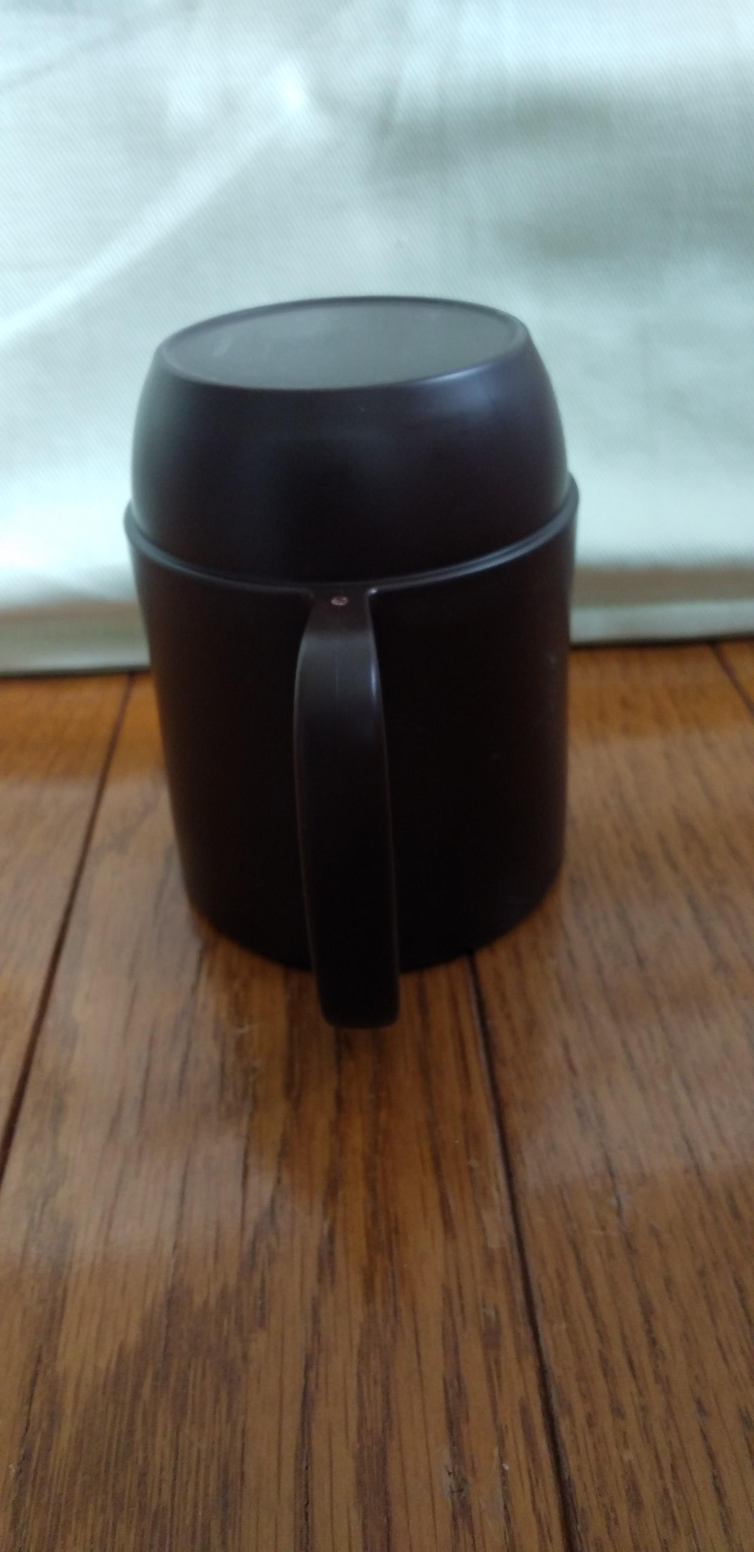mug-real100-3d100: (125, 297, 578, 1028)
